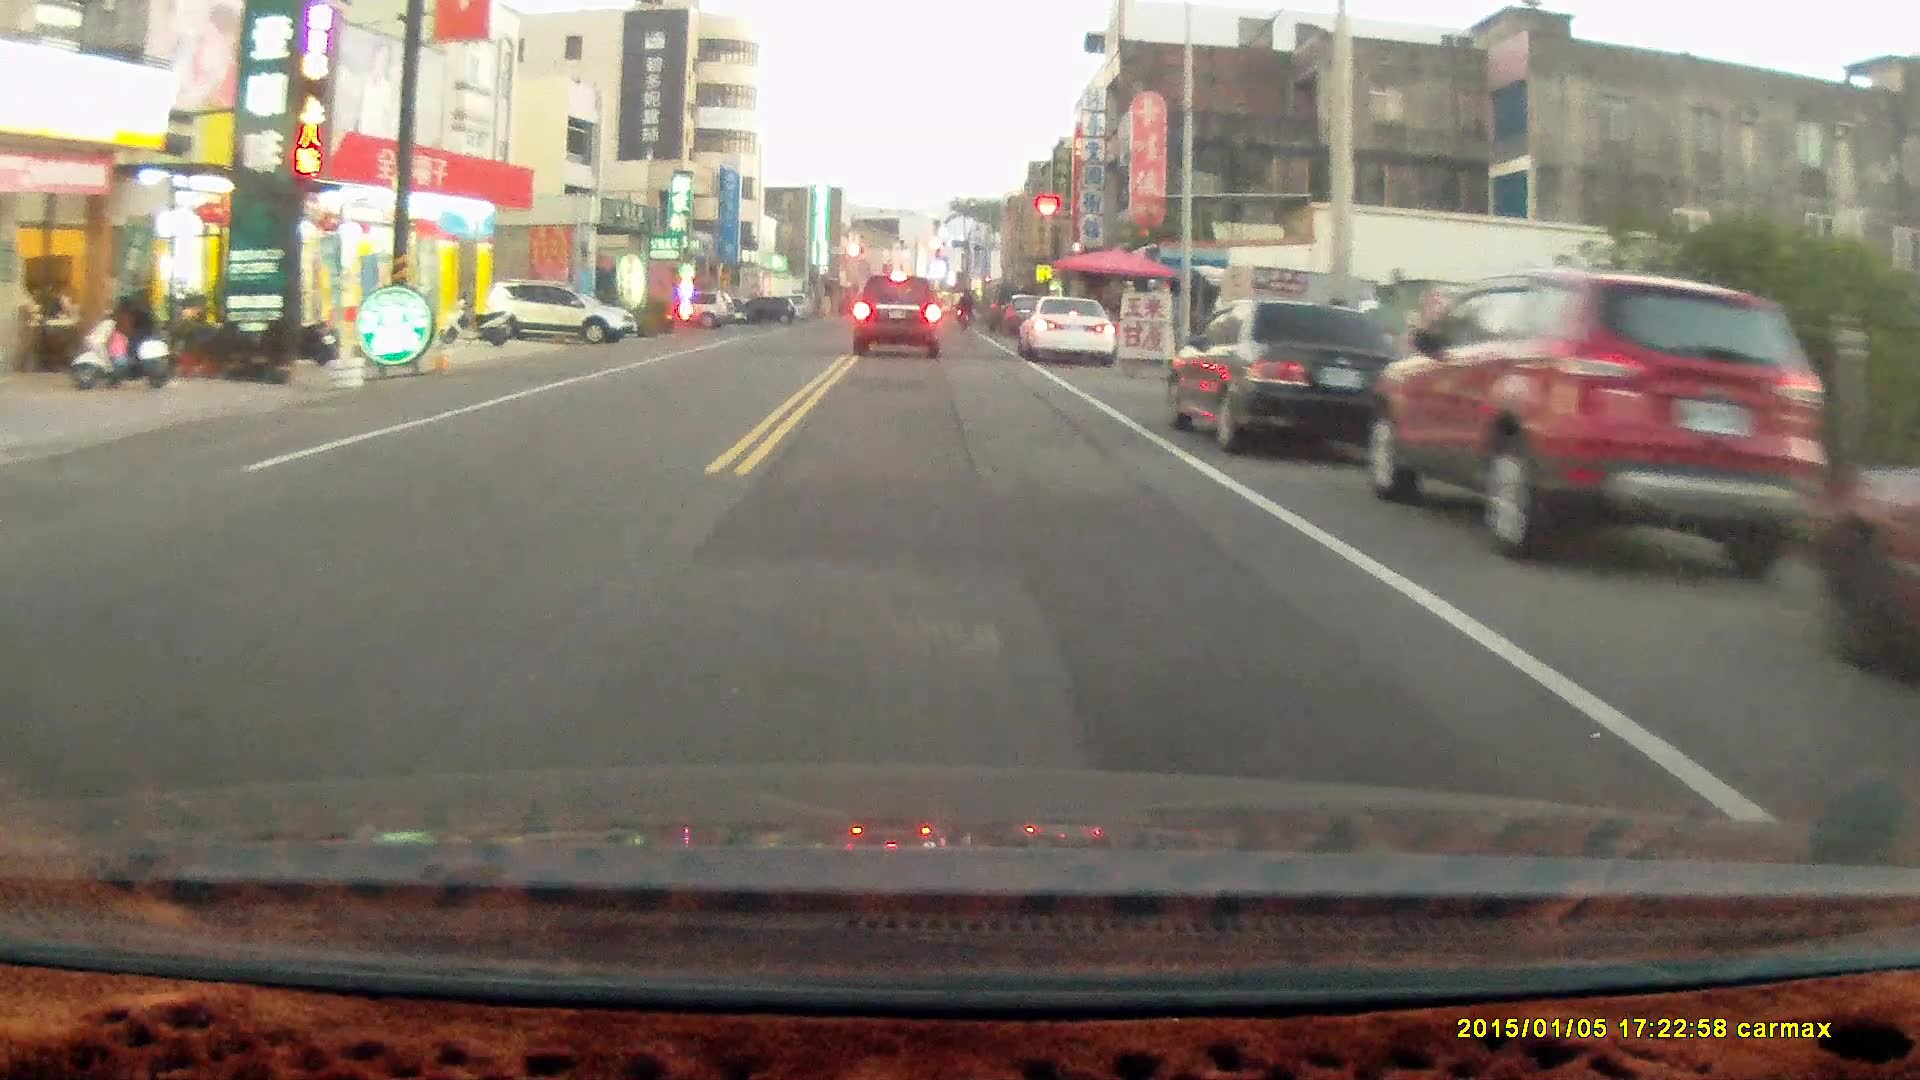vehicle: (1367, 266, 1842, 582), (1160, 298, 1402, 458), (487, 280, 644, 353), (853, 273, 944, 359), (1021, 297, 1121, 368)
